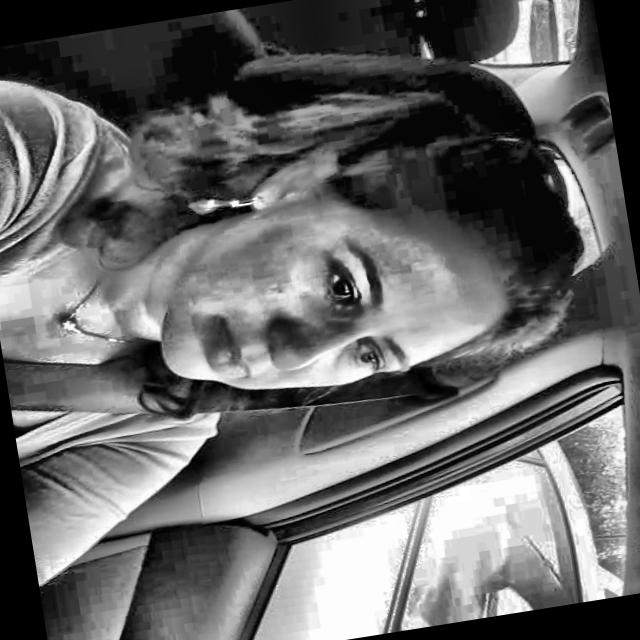closed_mouth: (175, 303, 262, 400)
open_eyes: (305, 243, 362, 317), (341, 332, 392, 394)
